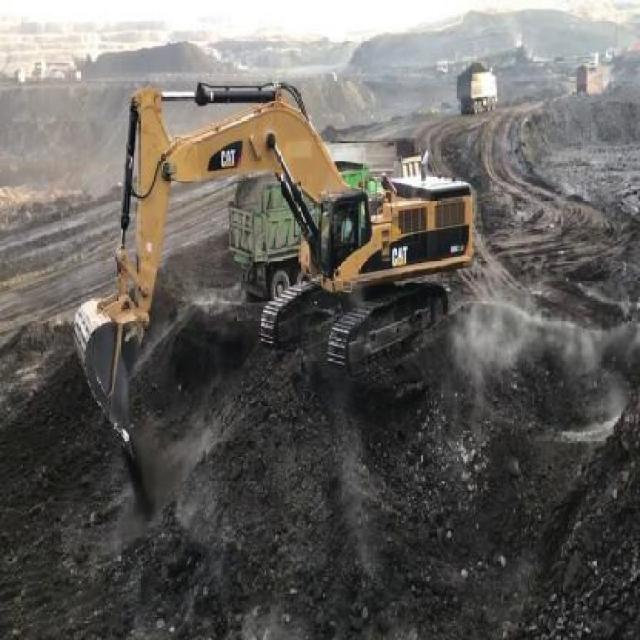Dump Truck: (228, 183, 312, 295), (455, 69, 499, 113)
Excavator: (71, 75, 475, 454)
